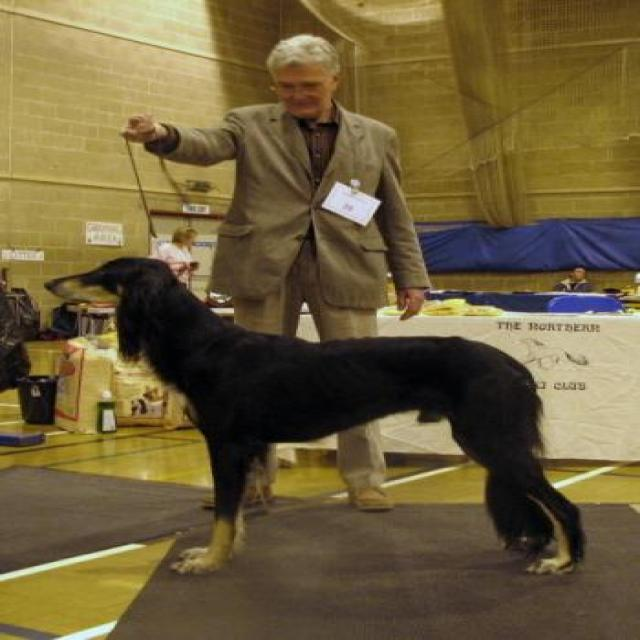saluki: (36, 248, 588, 582)
